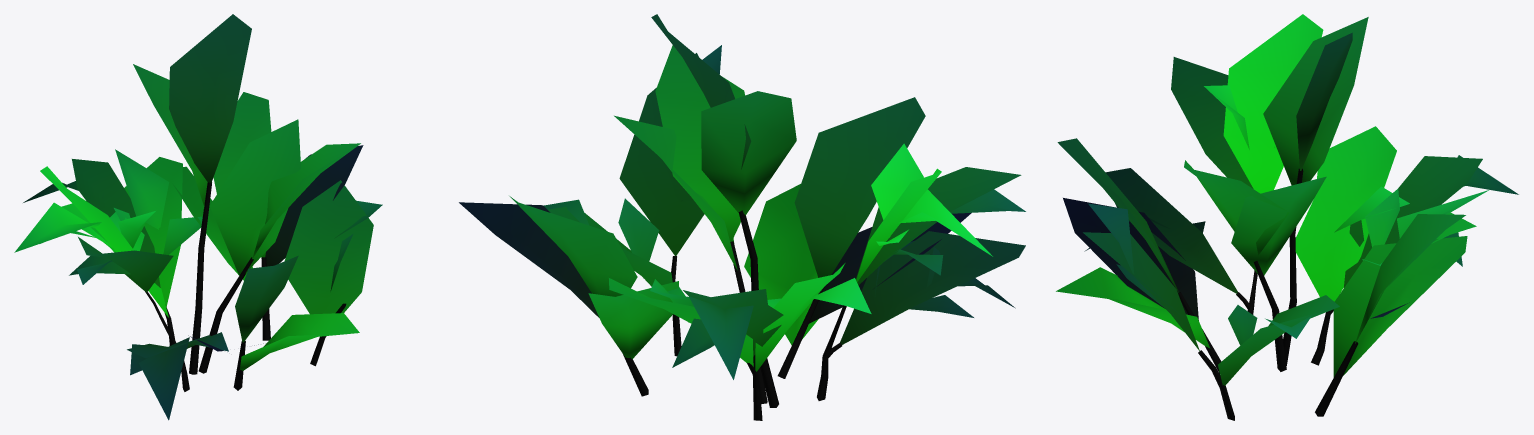
The model's file is SM_EuropeanBeech_XS_03.fbx.
The picture shows the model from 3 angles, left to right: view 1: azimuth 30°, elevation 25°; view 2: azimuth 150°, elevation 25°; view 3: azimuth 270°, elevation 25°; orthographic projection. The views are drawn at different scales.
Visible parts, largest first — view 1: SM_EuropeanBeech_XS_03_LOD0; view 2: SM_EuropeanBeech_XS_03_LOD0; view 3: SM_EuropeanBeech_XS_03_LOD0.
Boxes of the visible parts, left/top/right/bottom form: SM_EuropeanBeech_XS_03_LOD0: left=14, top=14, right=382, bottom=420; SM_EuropeanBeech_XS_03_LOD0: left=459, top=14, right=1025, bottom=420; SM_EuropeanBeech_XS_03_LOD0: left=1056, top=14, right=1518, bottom=420.
Bounding box in the file's own units: 64.98 × 57.56 × 51.08.
